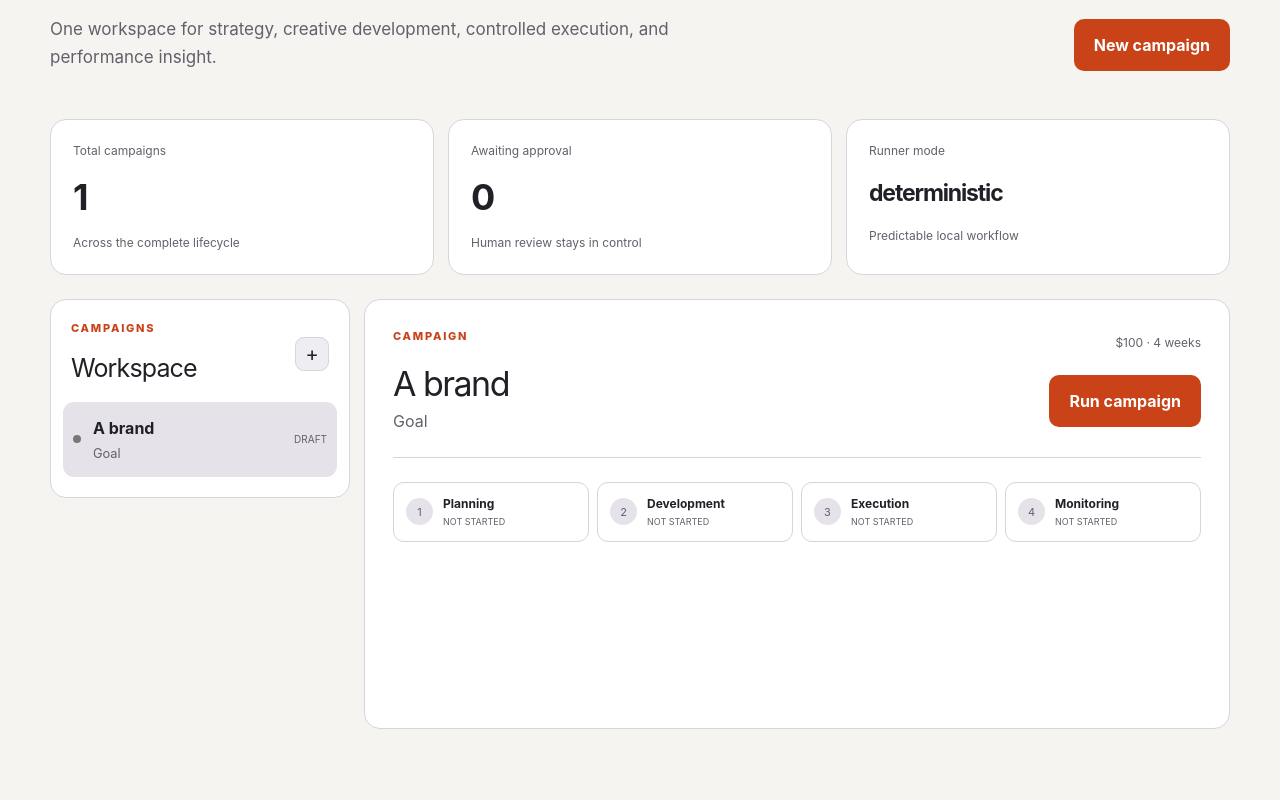
Test: 001-R5 does not rediscover or restore workspaces after session expiry while navigation is pending
(page scrolled)
Check: the heading "A brand" is shown, box [393,358,509,409]
Click the button "Run campaign".
click(1125, 400)  # box [1049,374,1201,426]
(page scrolled)
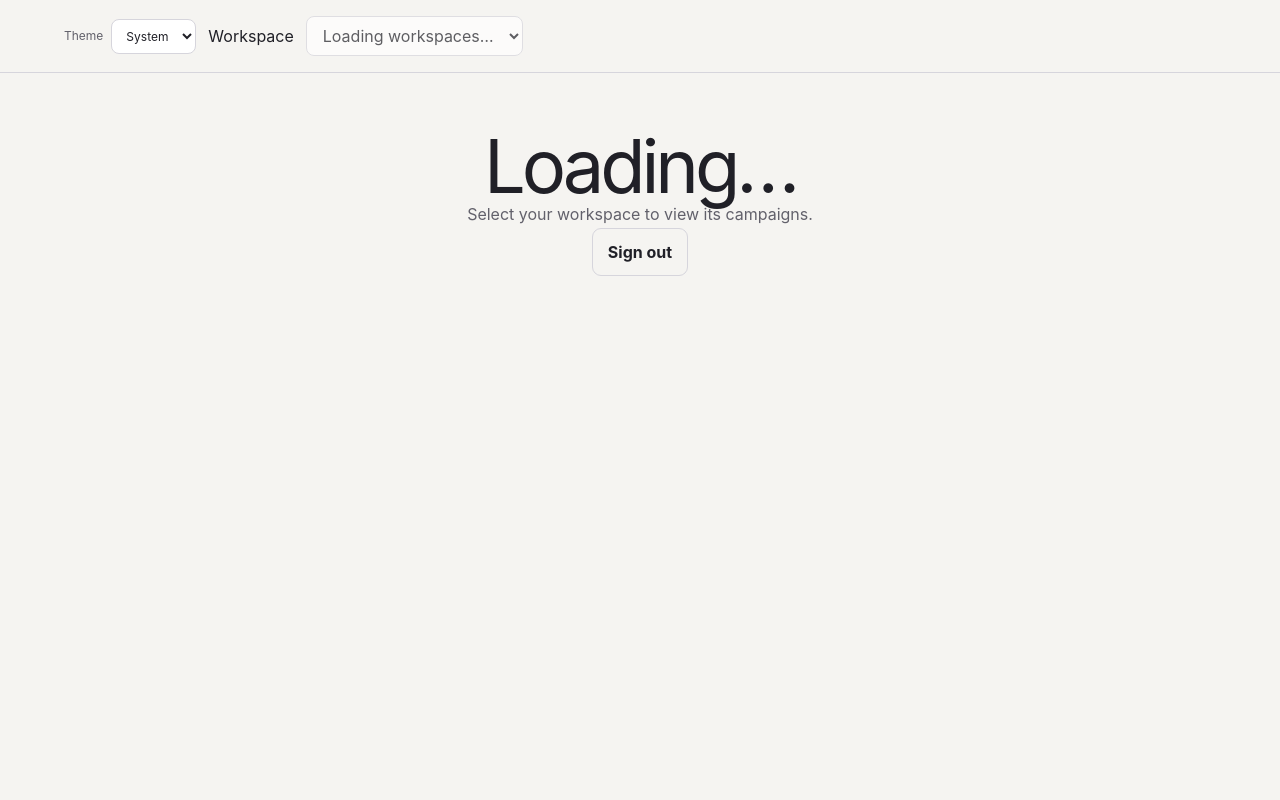
Check: the button "A brand" is gone
